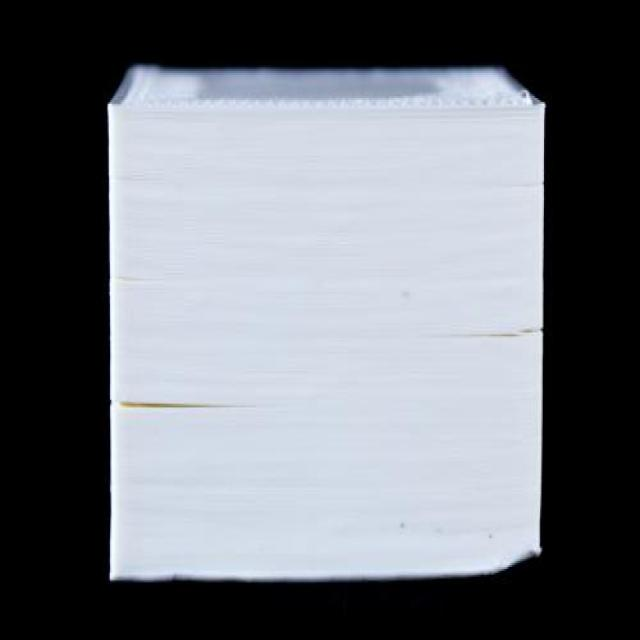Warping: (108, 393, 252, 419), (442, 318, 546, 348), (110, 267, 170, 294)
